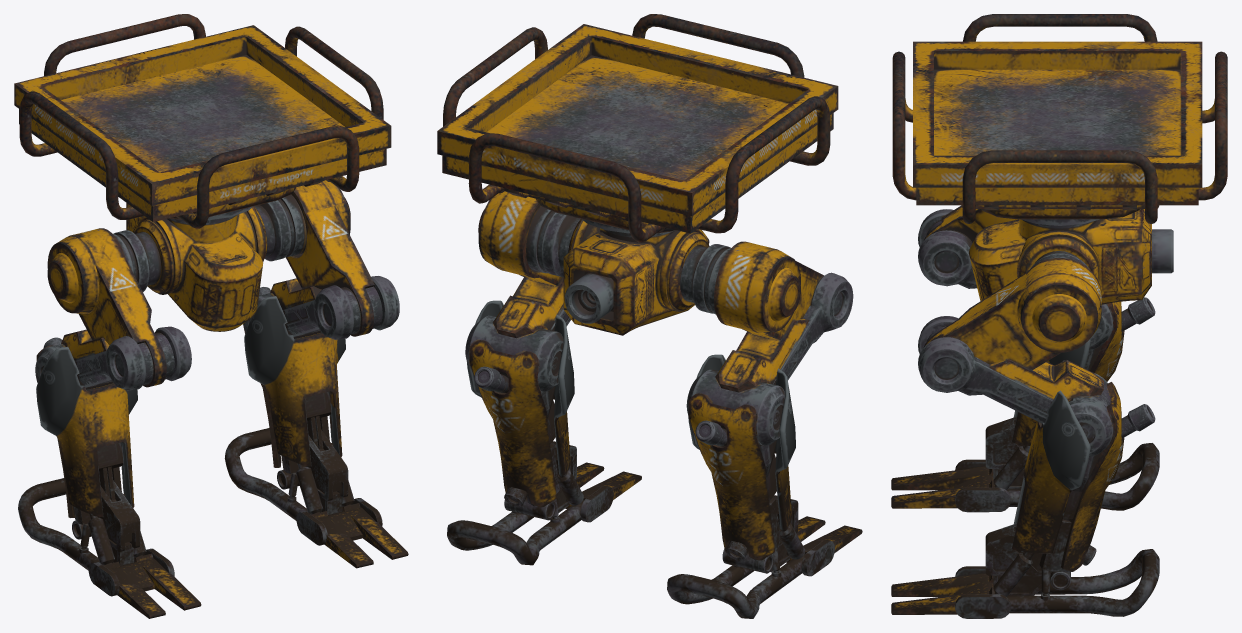
Rendered from walking_cargo_transporter..glb.
The picture shows the model from 3 angles, left to right: view 1: azimuth 30°, elevation 25°; view 2: azimuth 150°, elevation 25°; view 3: azimuth 270°, elevation 25°; orthographic projection. The views are drawn at different scales.
Parts seen in each view (by area): view 1: LegsJoined; view 2: LegsJoined; view 3: LegsJoined.
Part boxes in pixels (box(x1,y1,x2,y2)): LegsJoined: box(14, 14, 408, 618); LegsJoined: box(437, 14, 862, 618); LegsJoined: box(891, 14, 1227, 618).
Size of the model in its own units: 374 by 531 by 345.
1 material, 1 textured.
